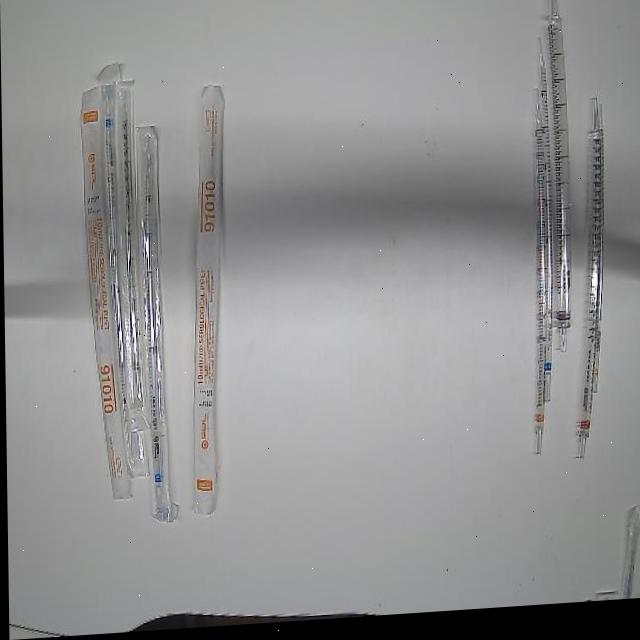Serelogical Pipet 1 mL: (586, 111, 609, 406)
Serelogical Pipet 10 mL: (528, 90, 548, 471)
Serelogical Pipet 10 mL - Sealed: (77, 83, 134, 506), (185, 81, 232, 521)
Serelogical Pipet 2 mL - Sealed: (110, 76, 154, 435)
Serelogical Pipet 25 mL: (569, 104, 606, 469)
Serelogical Pipet 5 mL: (536, 40, 554, 409)
Serelogical Pipet 5 mL - Sealed: (93, 58, 149, 485), (130, 117, 178, 531)
Serelogical Pipet 50 mL: (540, 0, 573, 366)
